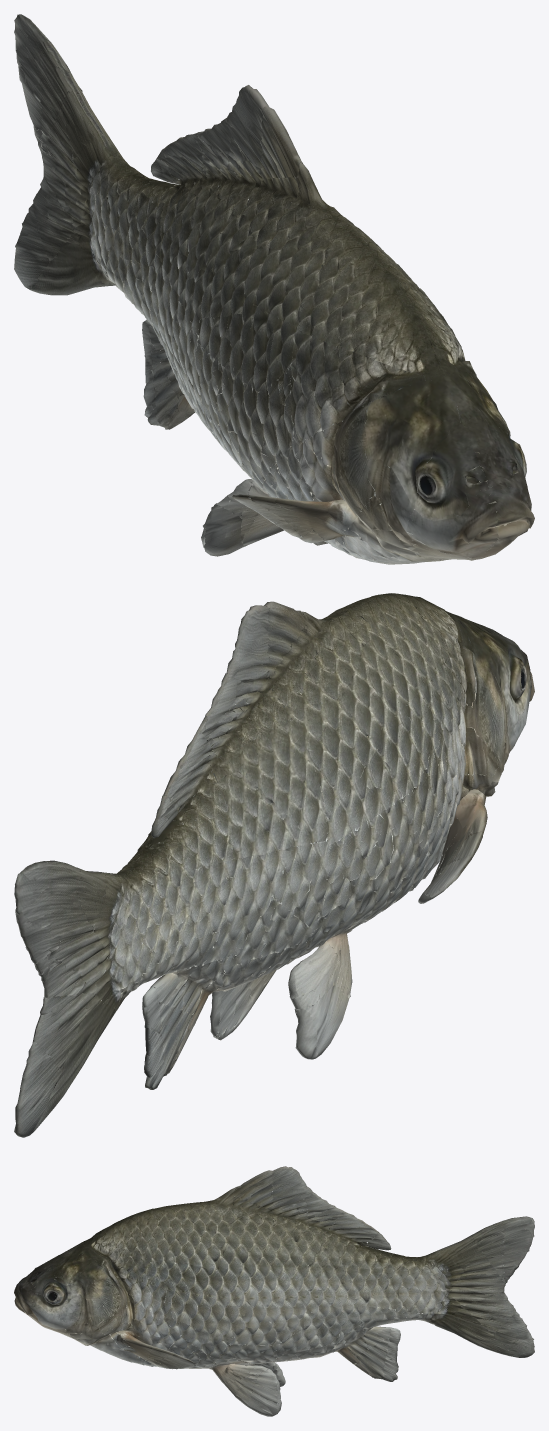
The model's file is karas_srebrzysty.glb.
3 renders of one model, top to bottom at view 1: azimuth 30°, elevation 25°; view 2: azimuth 150°, elevation 25°; view 3: azimuth 270°, elevation 25°, orthographic. The views are drawn at different scales.
Parts seen in each view (by area): view 1: Mesh_0; view 2: Mesh_0; view 3: Mesh_0.
Part boxes in pixels (x1=…): Mesh_0: x1=14, y1=14, x2=534, y2=564; Mesh_0: x1=14, y1=593, x2=534, y2=1137; Mesh_0: x1=14, y1=1166, x2=534, y2=1416.
Bounding box in the file's own units: 0.493 × 0.9593 × 1.9.
1 material, 1 textured.
